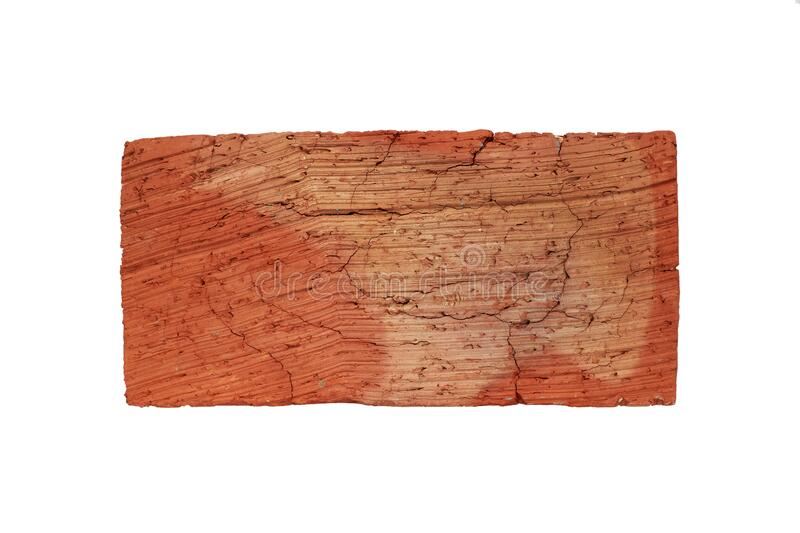brick: (123, 139, 677, 407)
